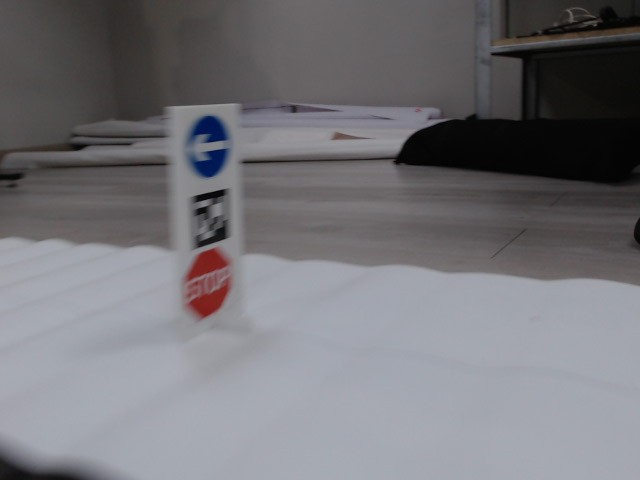Stop: (183, 248, 232, 316)
